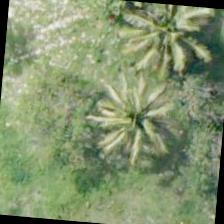Kelapa_Sawit: (86, 71, 184, 169), (116, 0, 212, 80)
